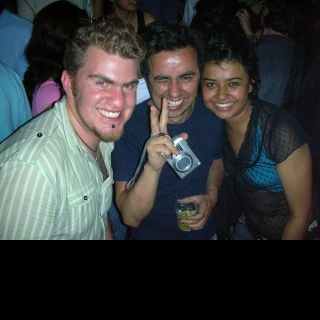without_mask: (77, 48, 137, 138), (147, 51, 201, 117), (203, 59, 248, 119)
